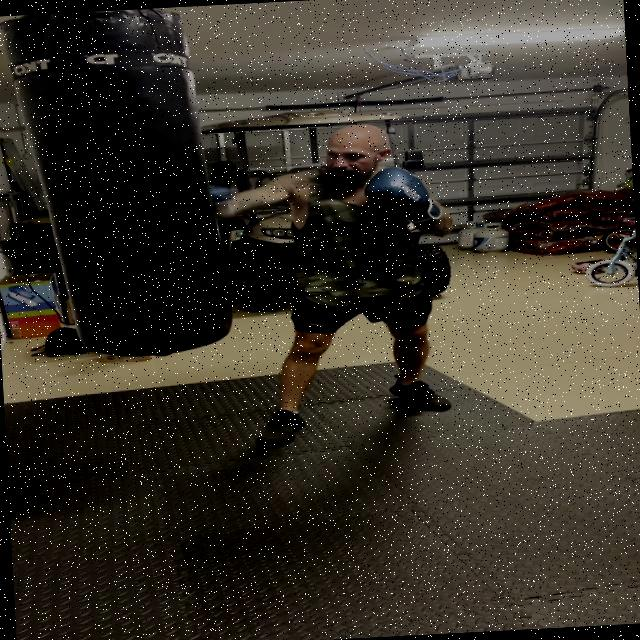punch: (187, 109, 466, 273)
